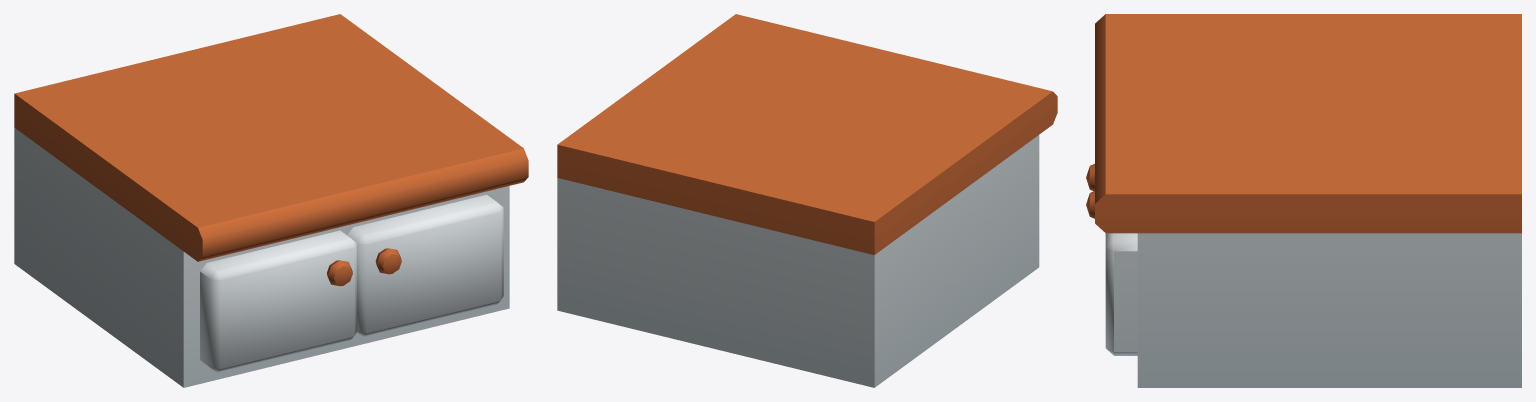
The model's file is kay-kitchencounter_straight_b.glb.
3 views of the same model, side by side, from view 1: azimuth 30°, elevation 25°; view 2: azimuth 150°, elevation 25°; view 3: azimuth 270°, elevation 25° (orthographic). The views are drawn at different scales.
Parts seen in each view (by area): view 1: kitchencounter_straight_B; view 2: kitchencounter_straight_B; view 3: kitchencounter_straight_B.
Part boxes in pixels (x1=…): kitchencounter_straight_B: x1=14, y1=14, x2=528, y2=387; kitchencounter_straight_B: x1=557, y1=14, x2=1057, y2=387; kitchencounter_straight_B: x1=1086, y1=14, x2=1521, y2=387.
Size of the model in its own units: 1.18 by 0.5877 by 1.2.
Materials: 1 (1 with a texture image).
